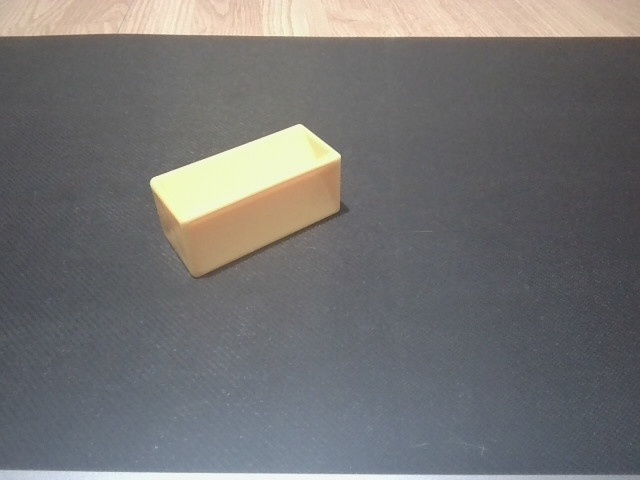YellowSample: (145, 121, 349, 282)
